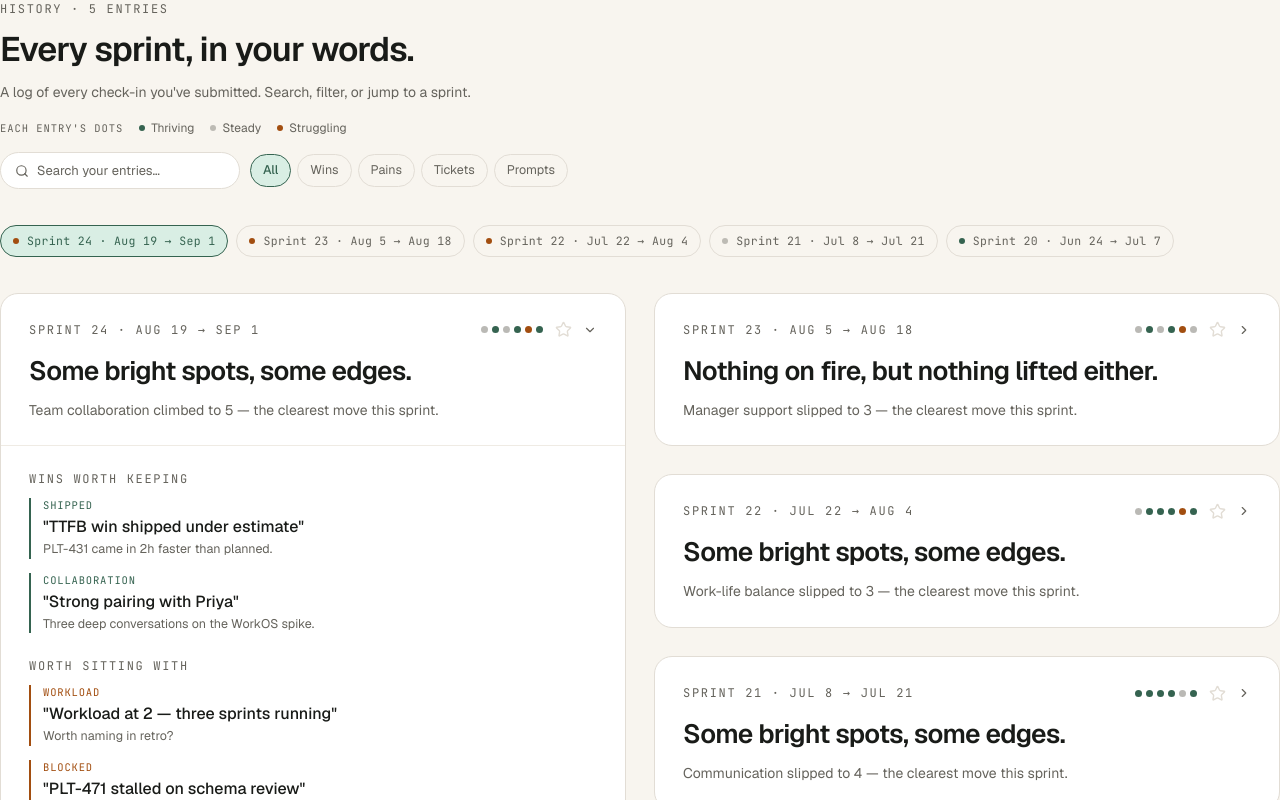
Test: HistoryView › shows an empty state when the search matches no entries
Expected: the heading "Every sprint, in your words." is shown, [0,27,414,71]
Step 1. Type "zzz-no-such-entry-zzz" into the field with placeholder "Search your entries…" → (131, 171), box [37,161,225,180]
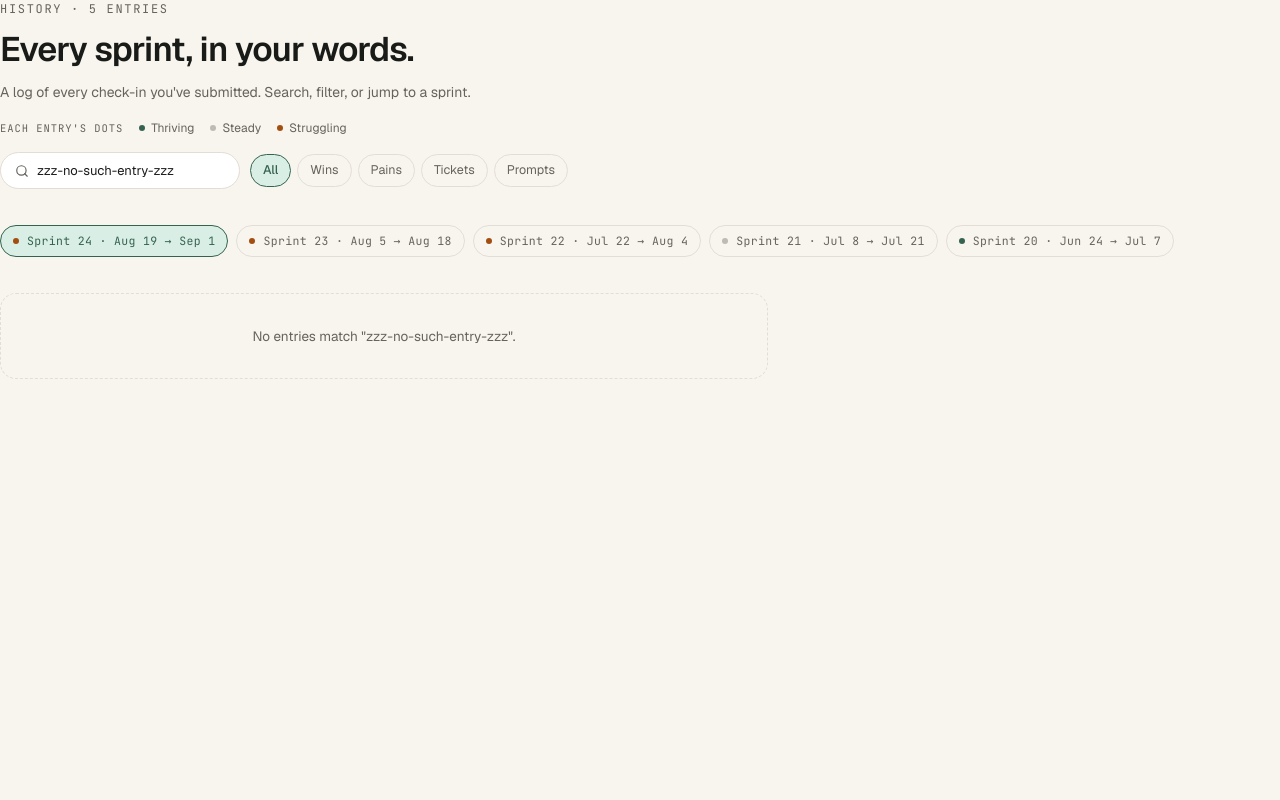
Expected: the text "No entries match \"zzz-no-such-entry-zzz\"." is shown, [0,293,768,379]
